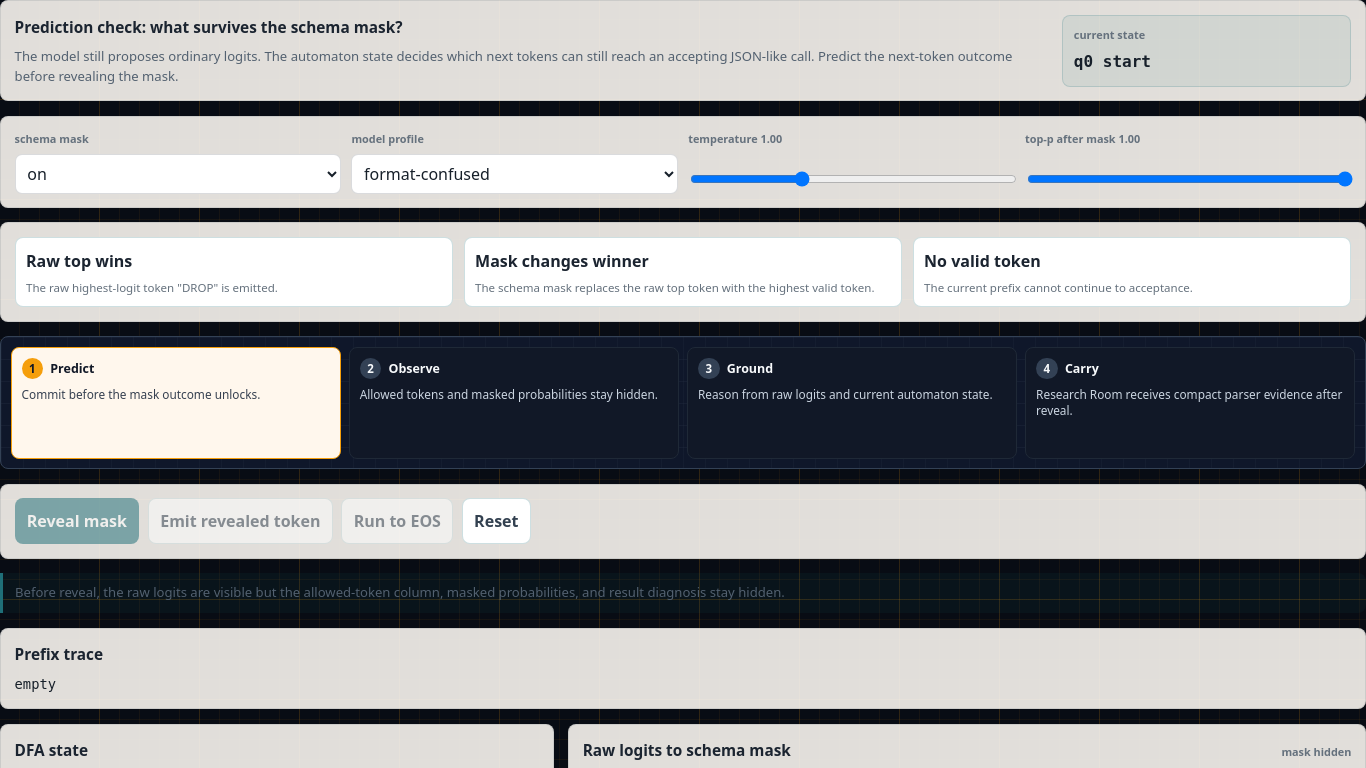
it: StructuredDecodingViz valid-token mask reveal › clears stale shared state when a revealed prediction is changed
Click the button "Mask changes winner".
click(562, 261)  # box [464,237,902,307]
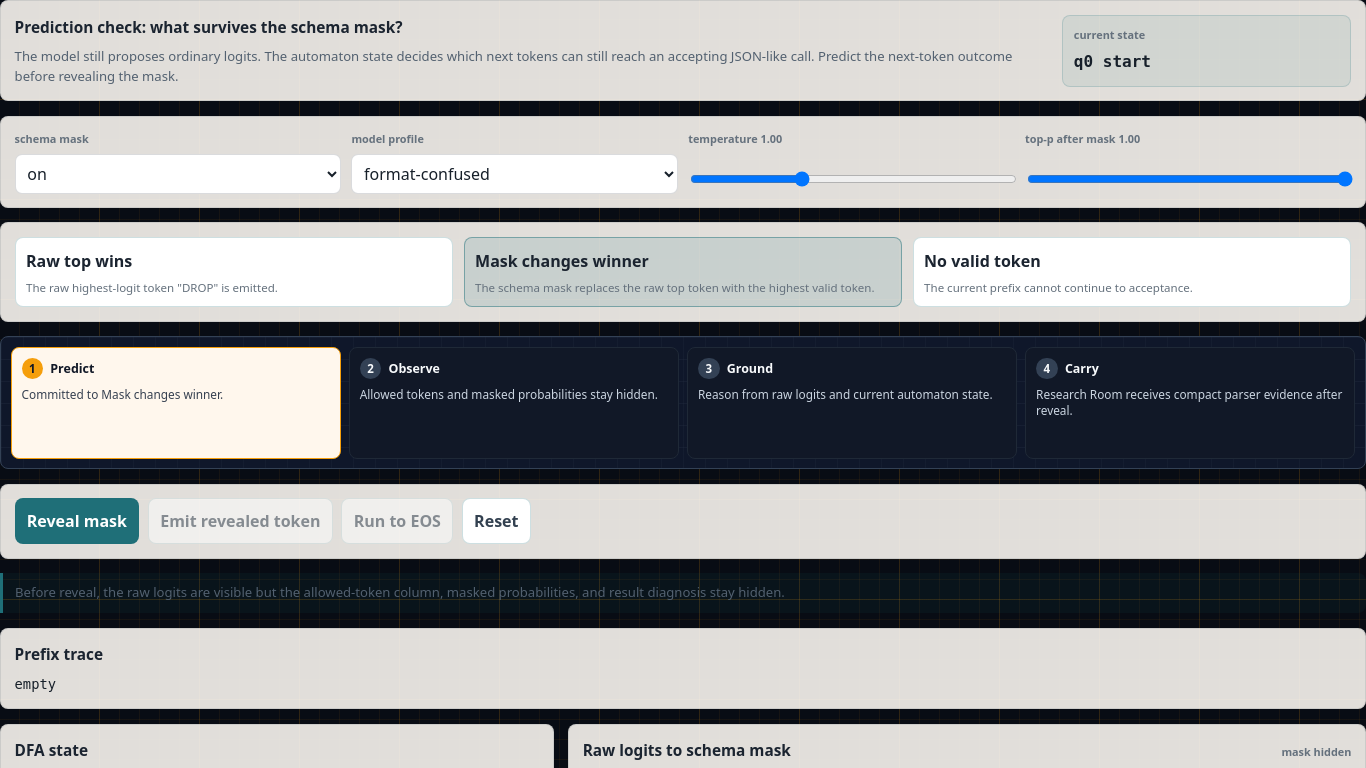
Click the button "Reveal mask".
click(77, 521)  # box [15,498,139,544]
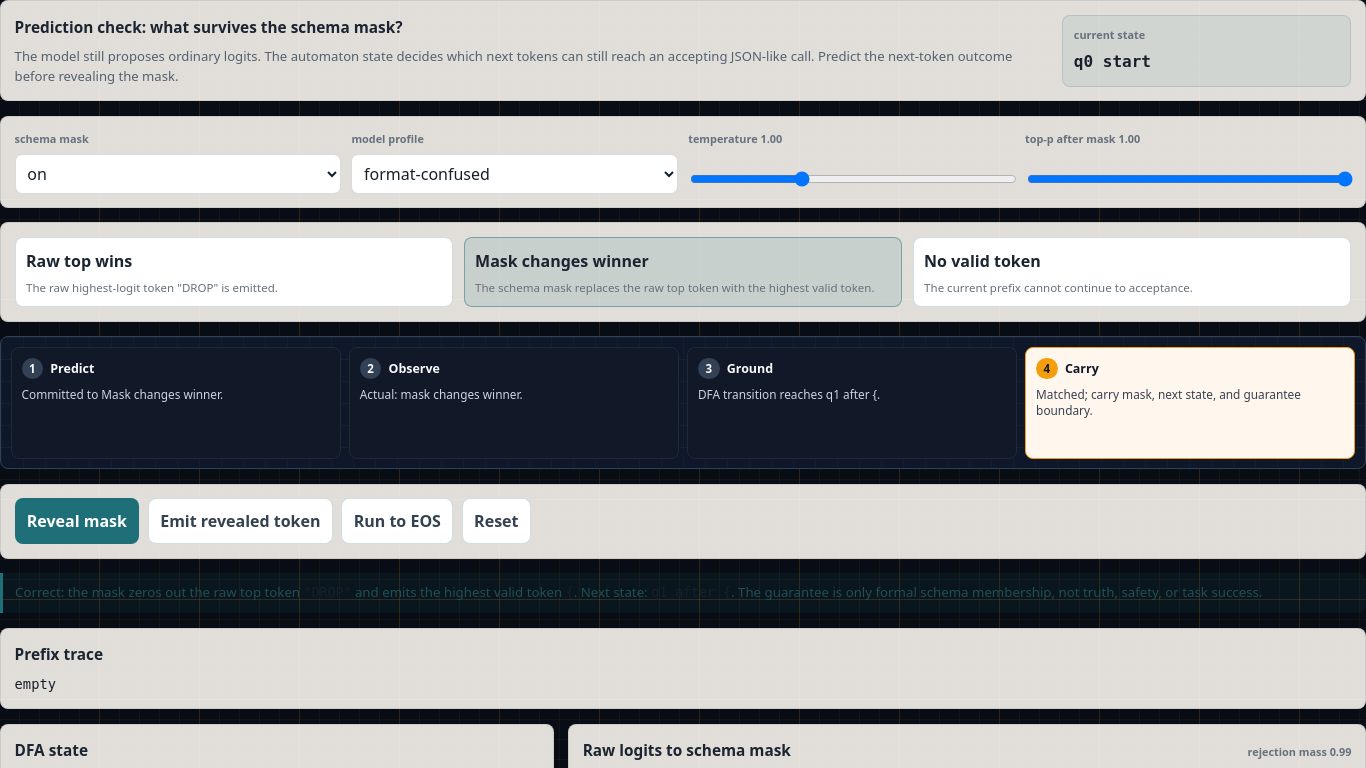
Result: the text "Correct:" is shown at [15,583,68,601]
Click the button "Raw top wins The raw highest-logit token \"DROP\" is emitted.".
click(79, 261)  # box [15,237,453,307]
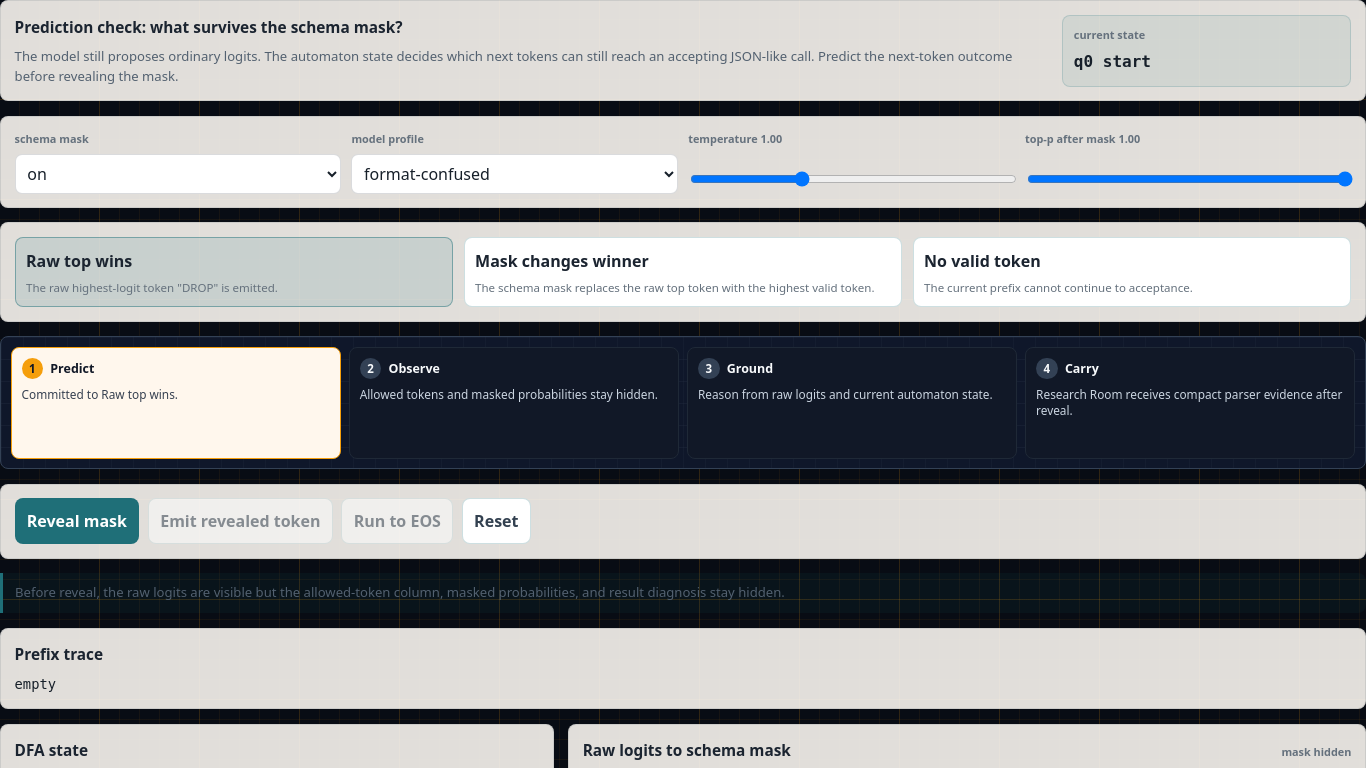
Result: the button "Reveal mask" is enabled at [15,498,139,544]
Result: the text "Correct:" is gone
Result: the text "rejection mass" is gone
